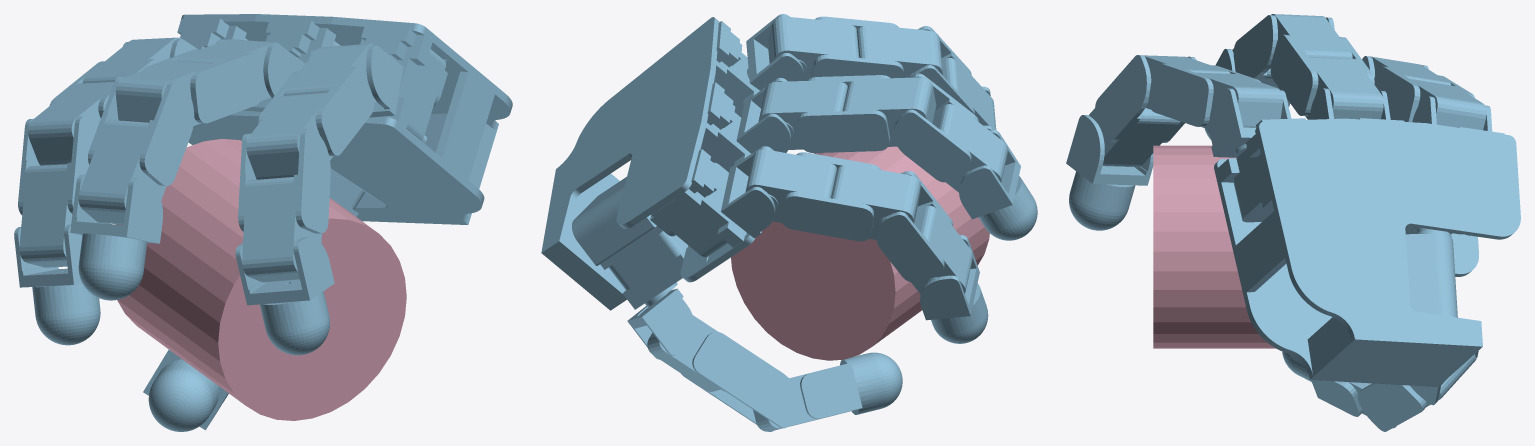
The picture shows the model from 3 angles, left to right: view 1: azimuth 30°, elevation 25°; view 2: azimuth 150°, elevation 25°; view 3: azimuth 270°, elevation 25°; orthographic projection. The views are drawn at different scales.
Visible parts, largest first — view 1: world, cylinder_medium.stl; view 2: world, cylinder_medium.stl; view 3: world, cylinder_medium.stl.
Boxes of the visible parts, left/top/right/bottom form: world: left=14, top=14, right=512, bottom=431; cylinder_medium.stl: left=116, top=139, right=406, bottom=420; world: left=541, top=14, right=1037, bottom=431; cylinder_medium.stl: left=731, top=146, right=989, bottom=360; world: left=1066, top=14, right=1520, bottom=431; cylinder_medium.stl: left=1153, top=145, right=1275, bottom=348.
Bounding box in the file's own units: 0.204 × 0.1622 × 0.1788.
